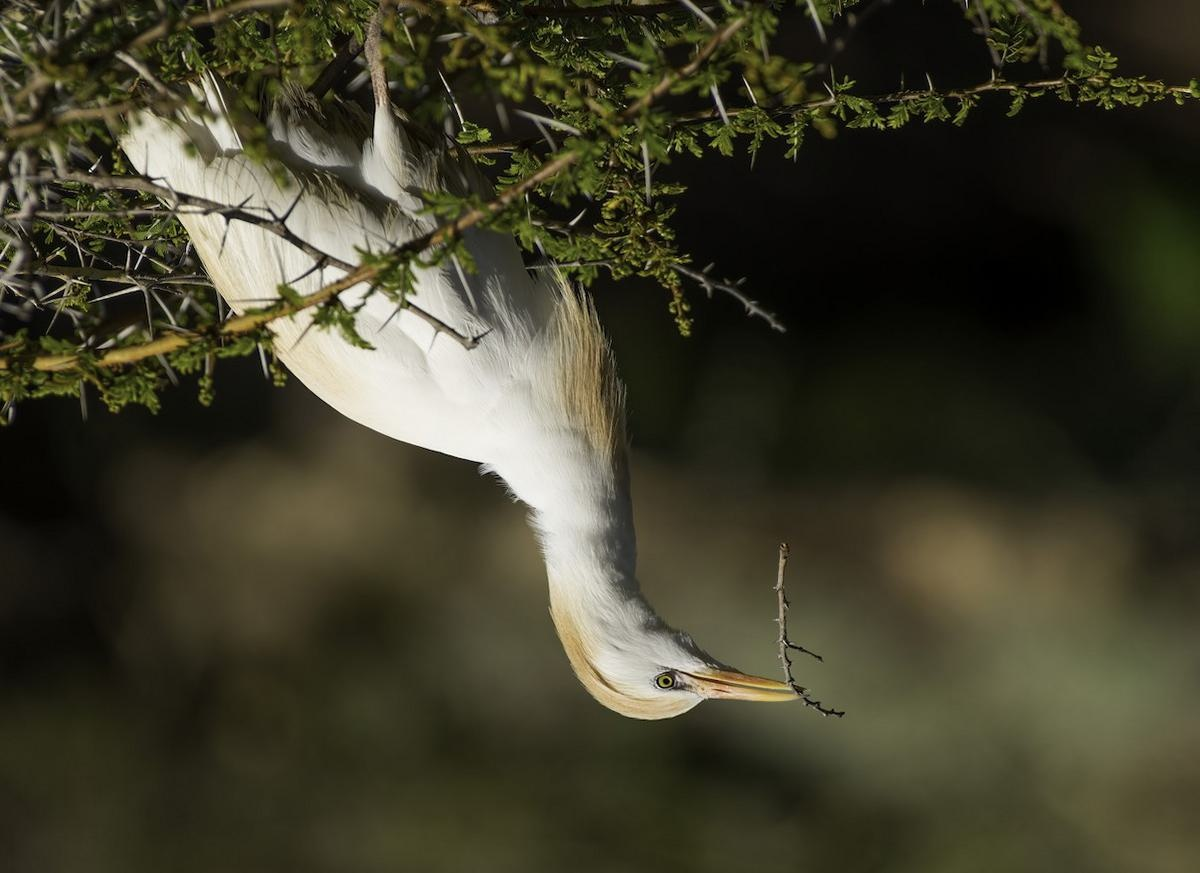egret: (131, 28, 818, 722)
